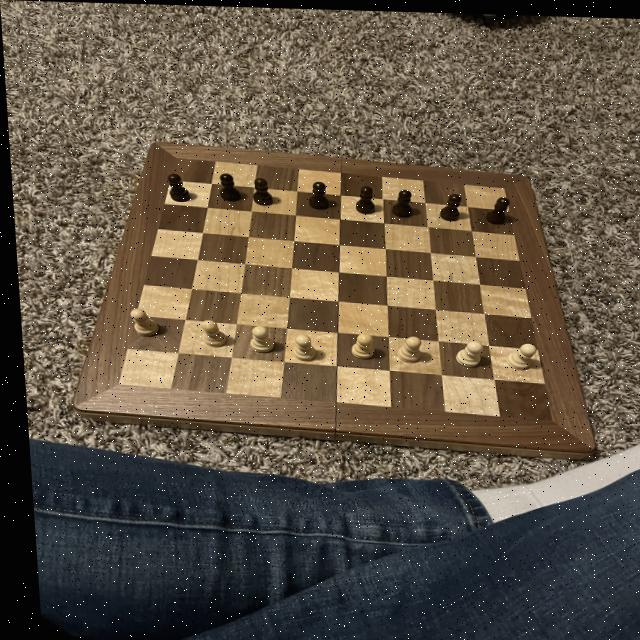black-knight: (384, 185, 416, 219), (162, 171, 192, 203), (481, 191, 510, 224), (213, 169, 241, 202), (245, 174, 274, 205), (434, 190, 462, 219), (304, 178, 331, 208), (349, 182, 375, 213)
white-knight: (498, 339, 536, 369), (123, 307, 158, 339), (194, 315, 226, 350), (449, 337, 482, 366), (244, 322, 273, 352), (344, 329, 373, 358), (286, 332, 314, 362), (391, 332, 419, 362)
